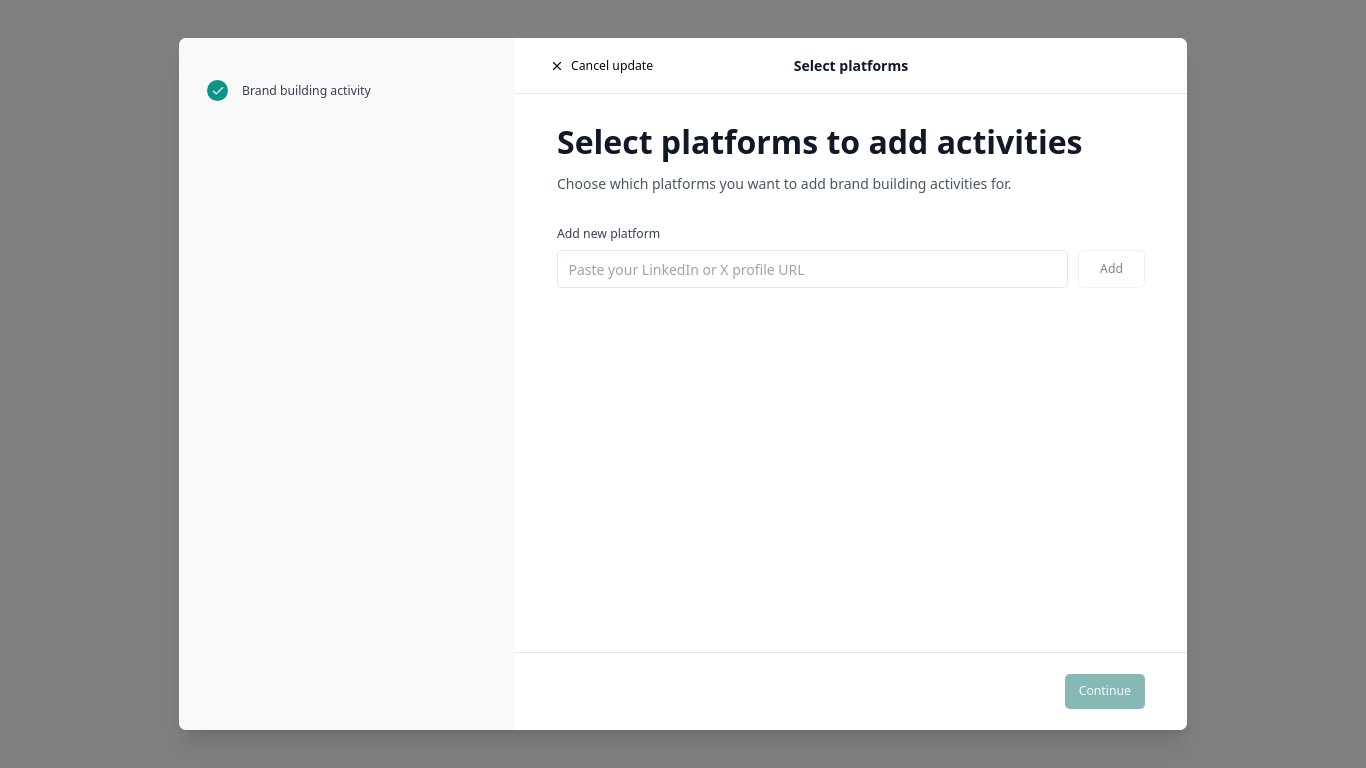
Test: BrandBuildingStep › Platform Selection Screen › should enable Continue button when platform is selected
This screenshot has width=1366, height=768.
Type "https://linkedin.com/in/johndoe" into the field with placeholder "Paste your LinkedIn or X profile URL" at (812,269), box [557,250,1068,288]
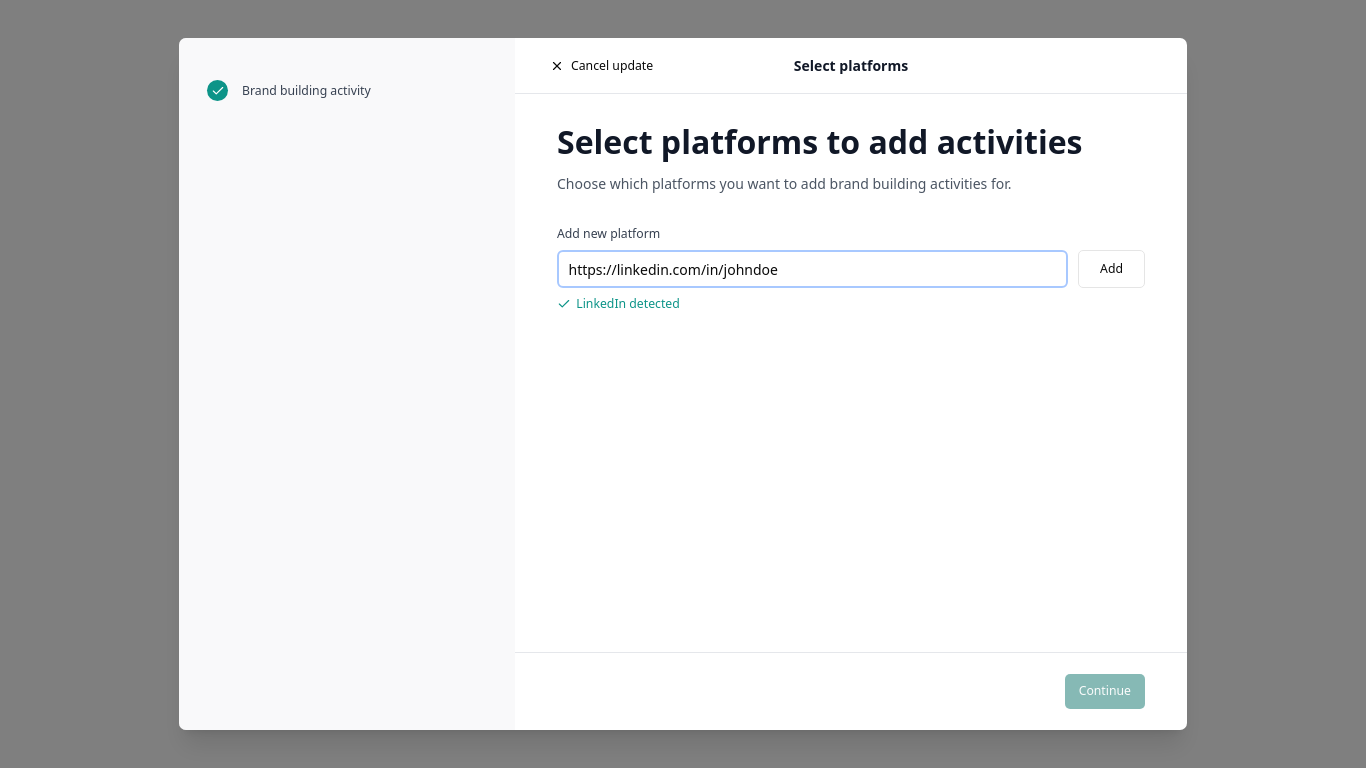
Click the button "Add" at (1112,269), box [1078,250,1145,288]
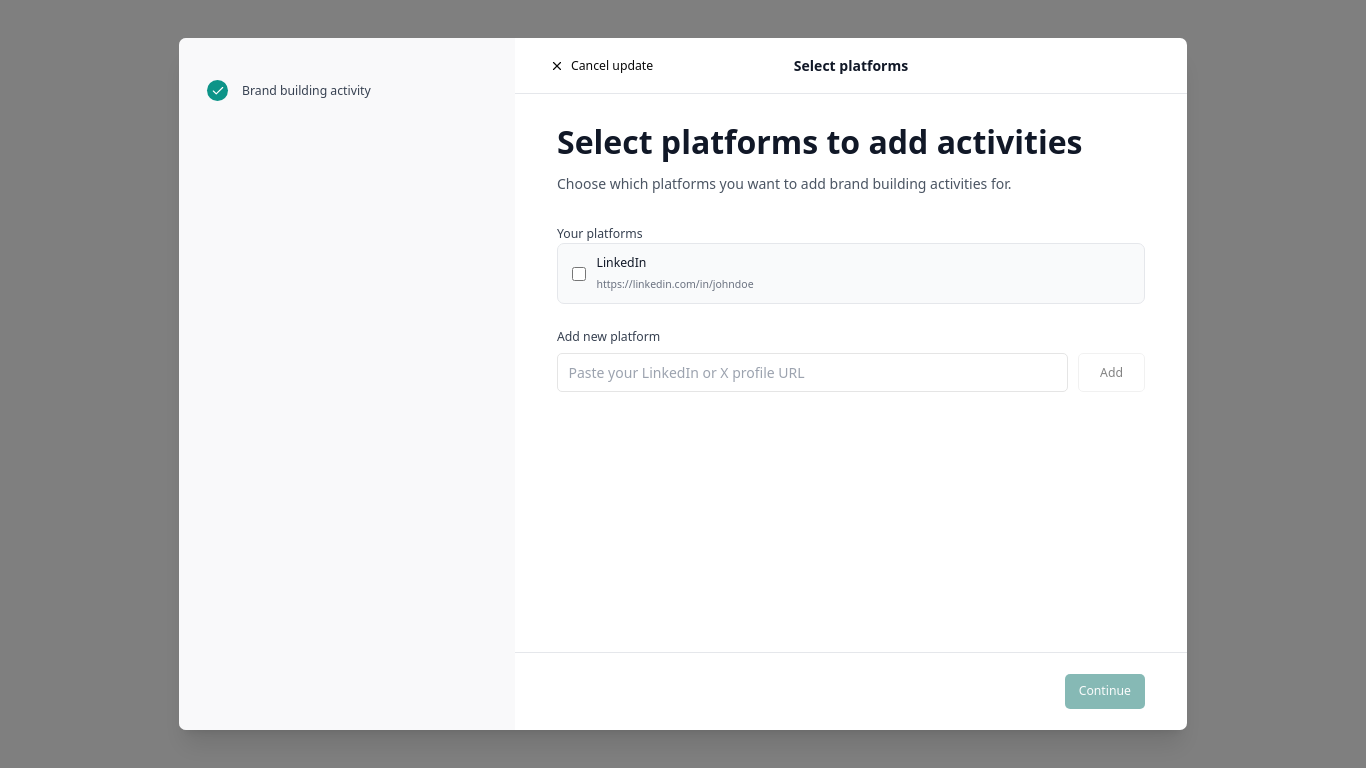
Now the checkbox is shown
Click the checkbox at (579,274), box [572,267,586,281]
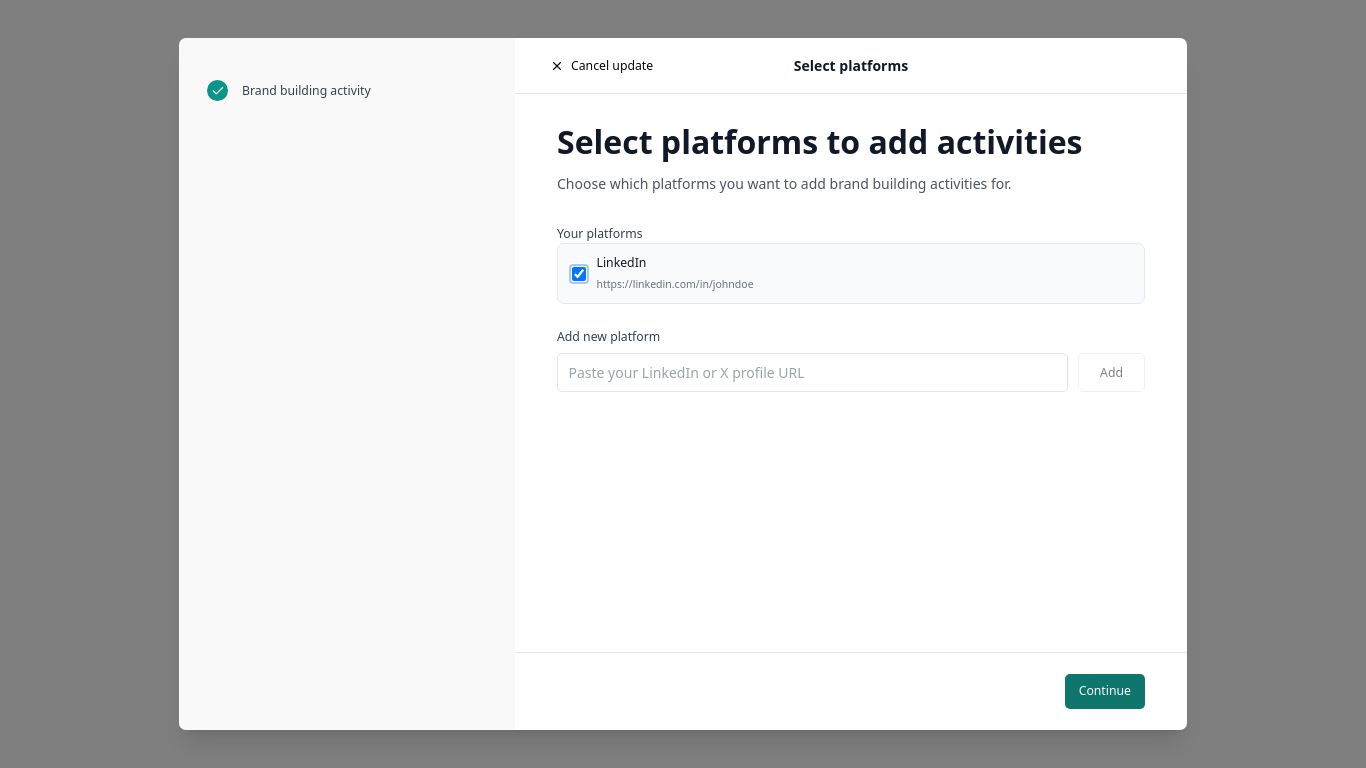
Now the button "Continue" is enabled, box [1065,674,1145,709]
